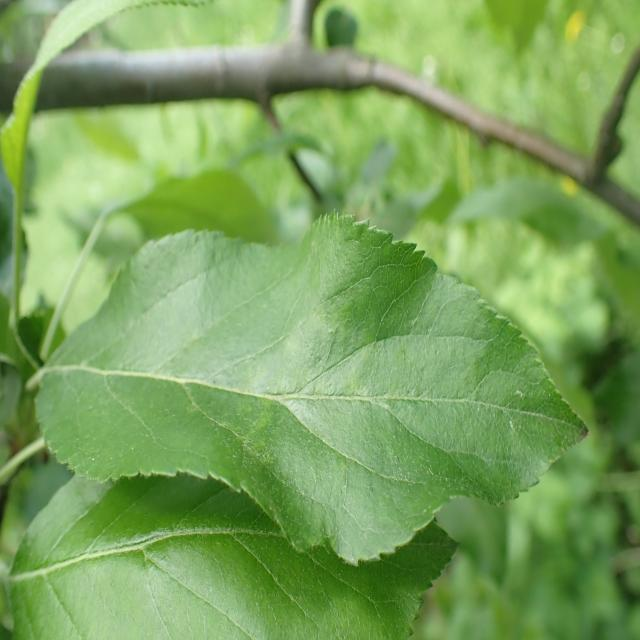scab: (111, 238, 497, 546)
